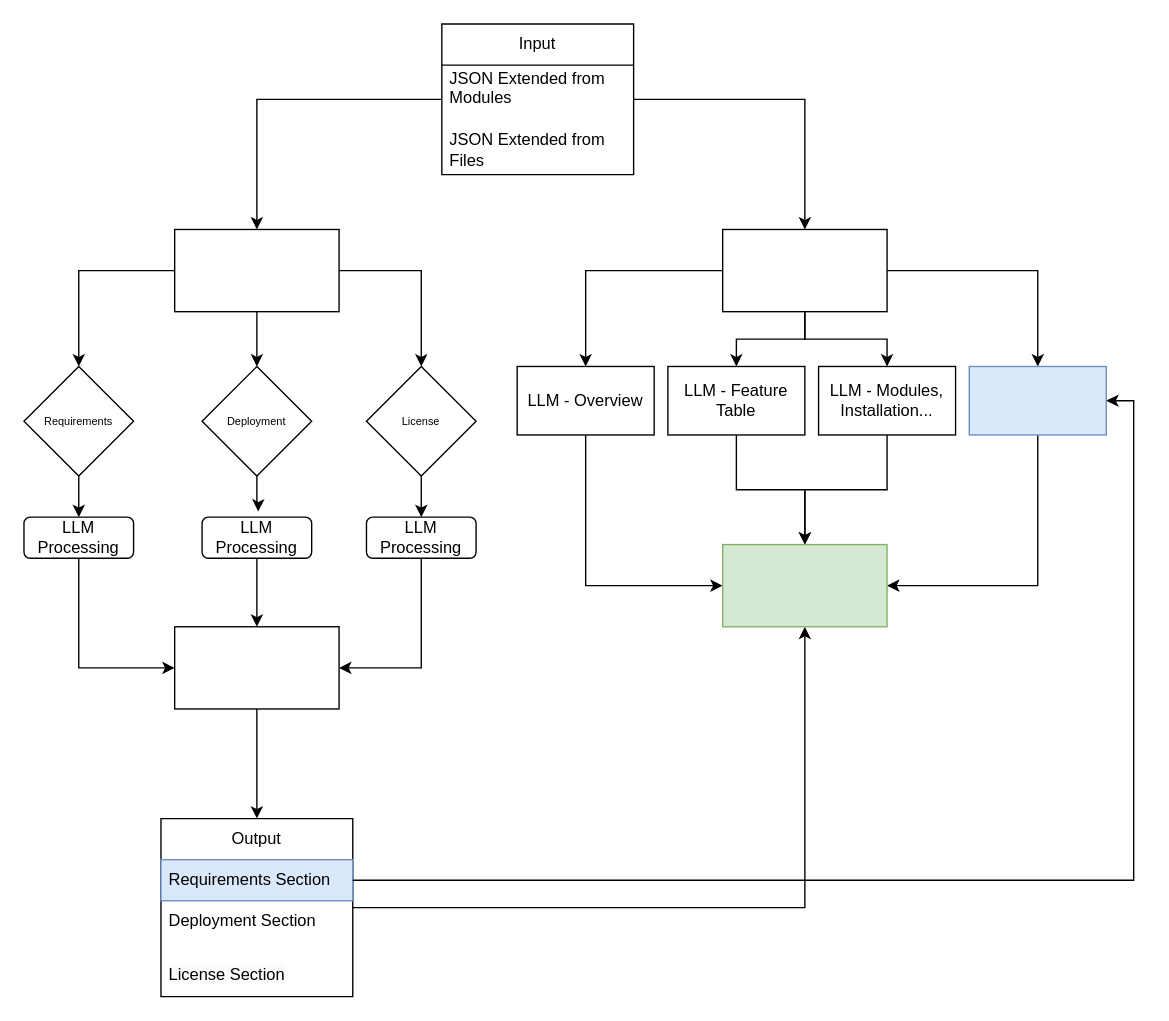
The diagram is 1169 pixels wide and 1021 high, and some of its shapes have lost their labels. The shapes that lost their labels are listed below. From the top down, each one's centre as x and y in pixels, then its label:
point (256, 270): Project Inspector
point (804, 270): MarkdownGenerator
point (1037, 400): LLM - Badges
point (804, 585): Combined sections into README
point (256, 667): Format JSON into Markdown Text
